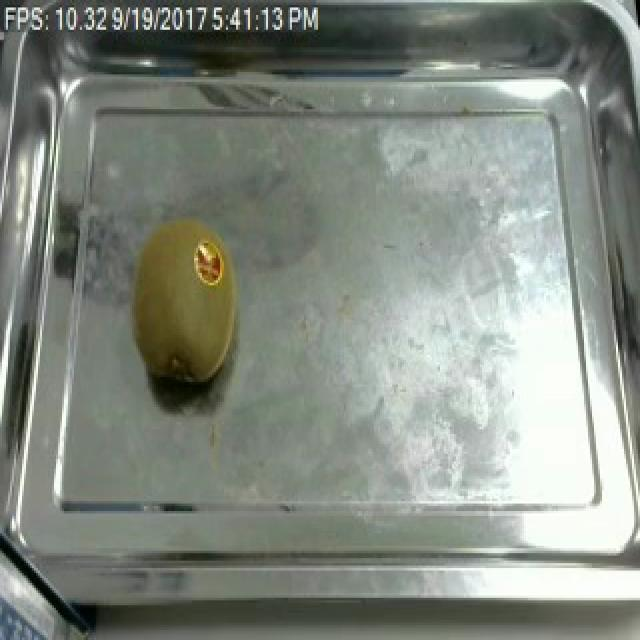Fruit: (116, 206, 246, 394)
